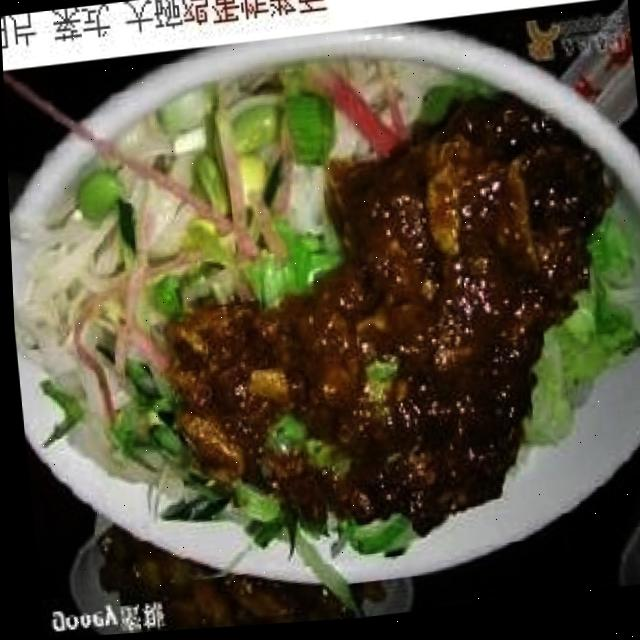面条主食: (7, 4, 640, 618)
